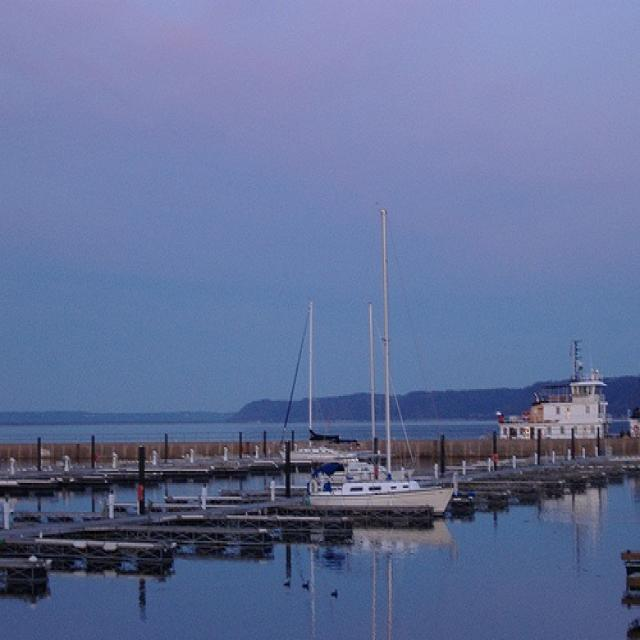boat: (306, 207, 457, 512), (320, 297, 412, 481), (282, 299, 357, 466), (502, 370, 610, 436)
